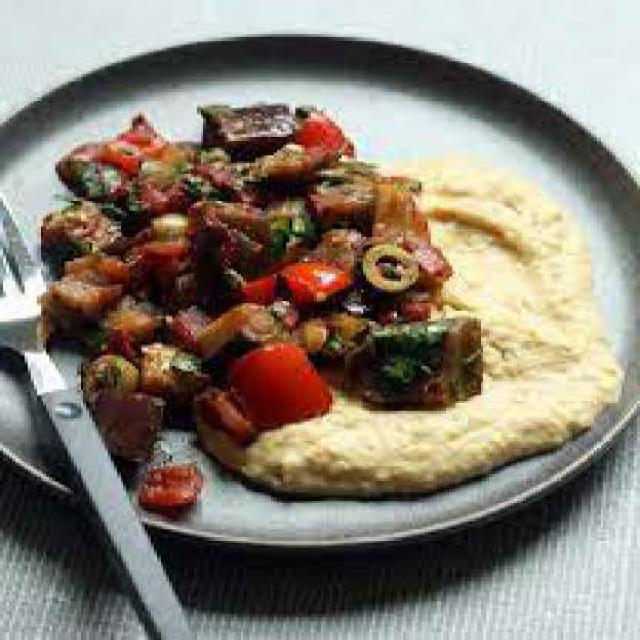eggplant: (37, 100, 480, 518)
hummus: (293, 155, 622, 480)
